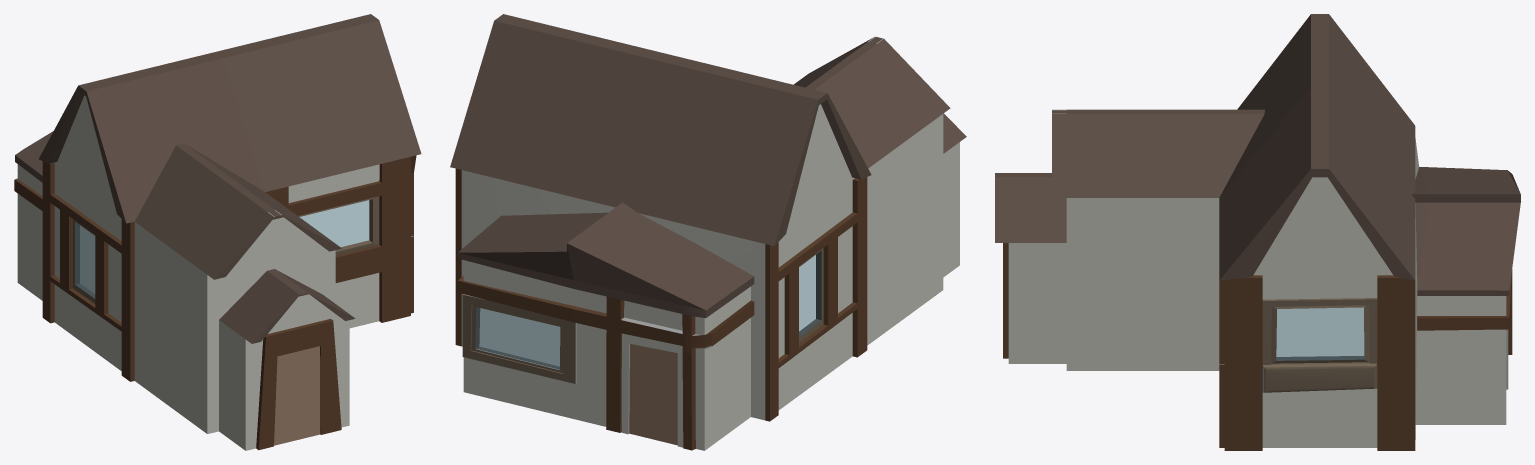
File: house2.fbx
3 renders of one model, left to right at view 1: azimuth 30°, elevation 25°; view 2: azimuth 150°, elevation 25°; view 3: azimuth 270°, elevation 25°, orthographic. The views are drawn at different scales.
Visible parts, largest first — view 1: pCube1; view 2: pCube1; view 3: pCube1.
Boxes of the visible parts, box(x1,y1,x2,y2) form: pCube1: box(14, 14, 421, 450); pCube1: box(450, 14, 966, 450); pCube1: box(995, 14, 1520, 450).
Bounding box in the file's own units: 1.92 × 1.65 × 2.76.
